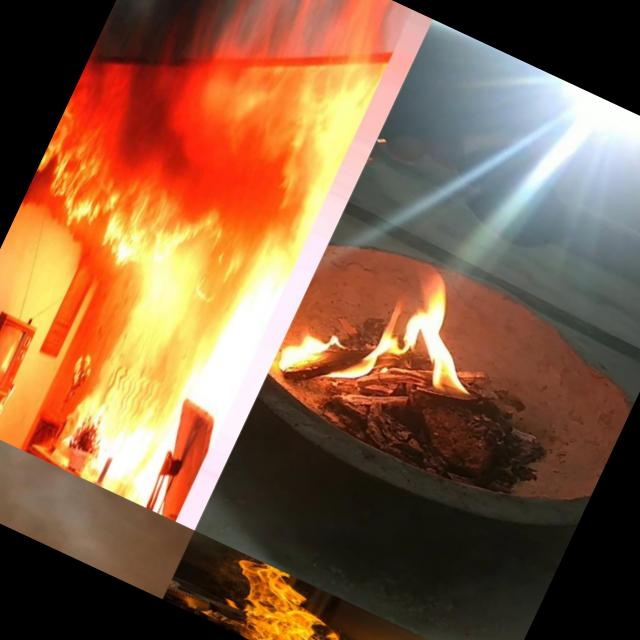fire: (276, 233, 499, 447), (55, 133, 313, 314), (53, 256, 240, 494), (212, 554, 382, 640)
smoke: (0, 415, 174, 590), (91, 0, 276, 104), (8, 138, 70, 239), (140, 520, 194, 600)
